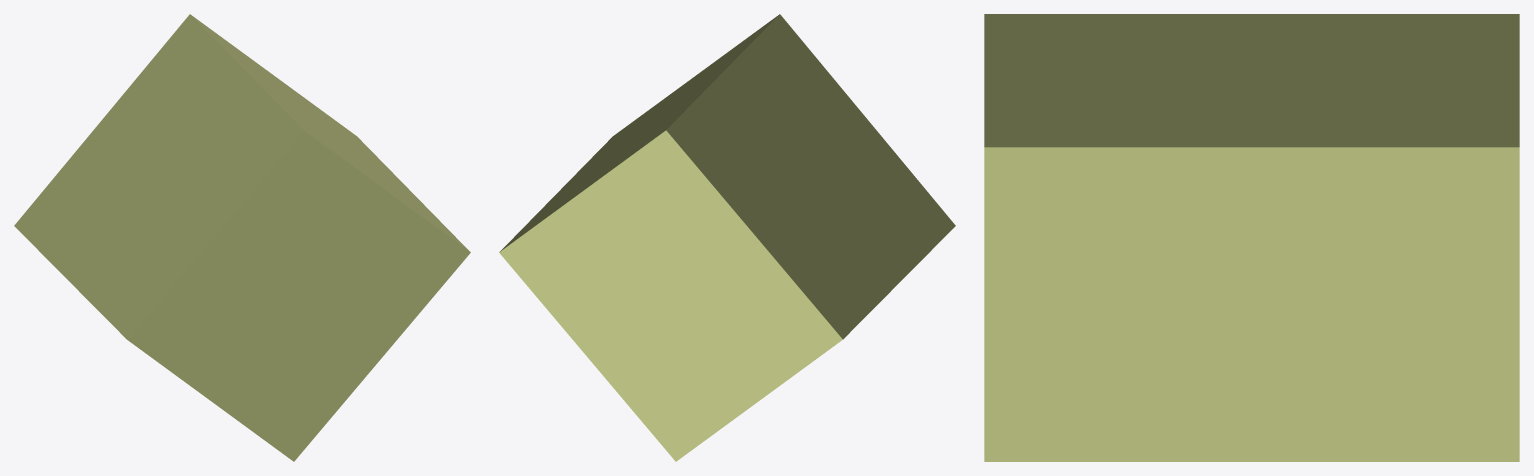
3 views of the same model, side by side, from view 1: azimuth 30°, elevation 25°; view 2: azimuth 150°, elevation 25°; view 3: azimuth 270°, elevation 25° (orthographic). The views are drawn at different scales.
Parts seen in each view (by area): view 1: 0_0_1_3_2_1_1_3_1_1; view 2: 0_0_1_3_2_1_1_3_1_1; view 3: 0_0_1_3_2_1_1_3_1_1.
Part boxes in pixels (<box>): 0_0_1_3_2_1_1_3_1_1: <box>14,14,470,461</box>; 0_0_1_3_2_1_1_3_1_1: <box>499,14,955,461</box>; 0_0_1_3_2_1_1_3_1_1: <box>984,14,1519,461</box>.
Bounding box in the file's own units: 9.01 × 9.22 × 9.
